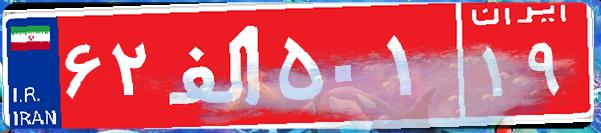0: (330, 28, 385, 110)
1: (385, 28, 445, 110), (475, 38, 525, 113)
2: (110, 28, 158, 105)
5: (273, 28, 330, 110)
6: (57, 26, 110, 107)
9: (525, 38, 570, 115)
الف: (158, 15, 273, 115)
